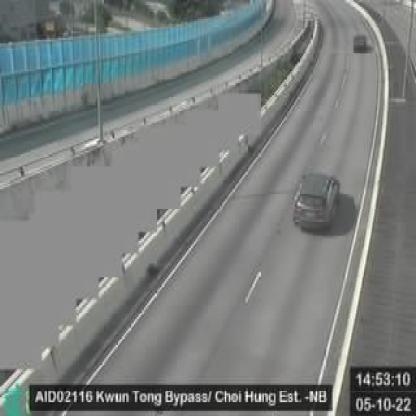Car: (292, 173, 338, 227), (352, 29, 366, 52)
